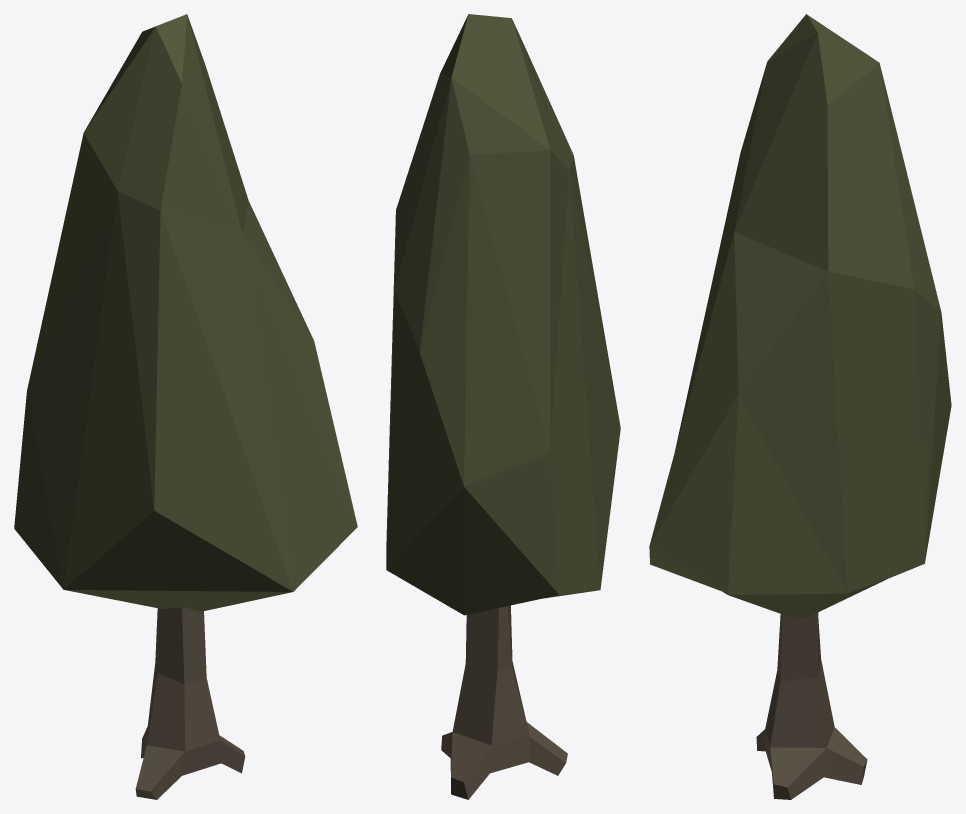
File: env_tree_thin.gltf
3 views of the same model, side by side, from view 1: azimuth 30°, elevation 25°; view 2: azimuth 150°, elevation 25°; view 3: azimuth 270°, elevation 25° (orthographic).
Parts seen in each view (by area): view 1: env_tree_thin; view 2: env_tree_thin; view 3: env_tree_thin.
Boxes of the visible parts, left/top/right/bottom form: env_tree_thin: left=14, top=14, right=357, bottom=799; env_tree_thin: left=386, top=14, right=620, bottom=799; env_tree_thin: left=649, top=14, right=951, bottom=799.
Bounding box in the file's own units: 1.2 × 3.74 × 1.36.
Materials: 1 (1 with a texture image).
